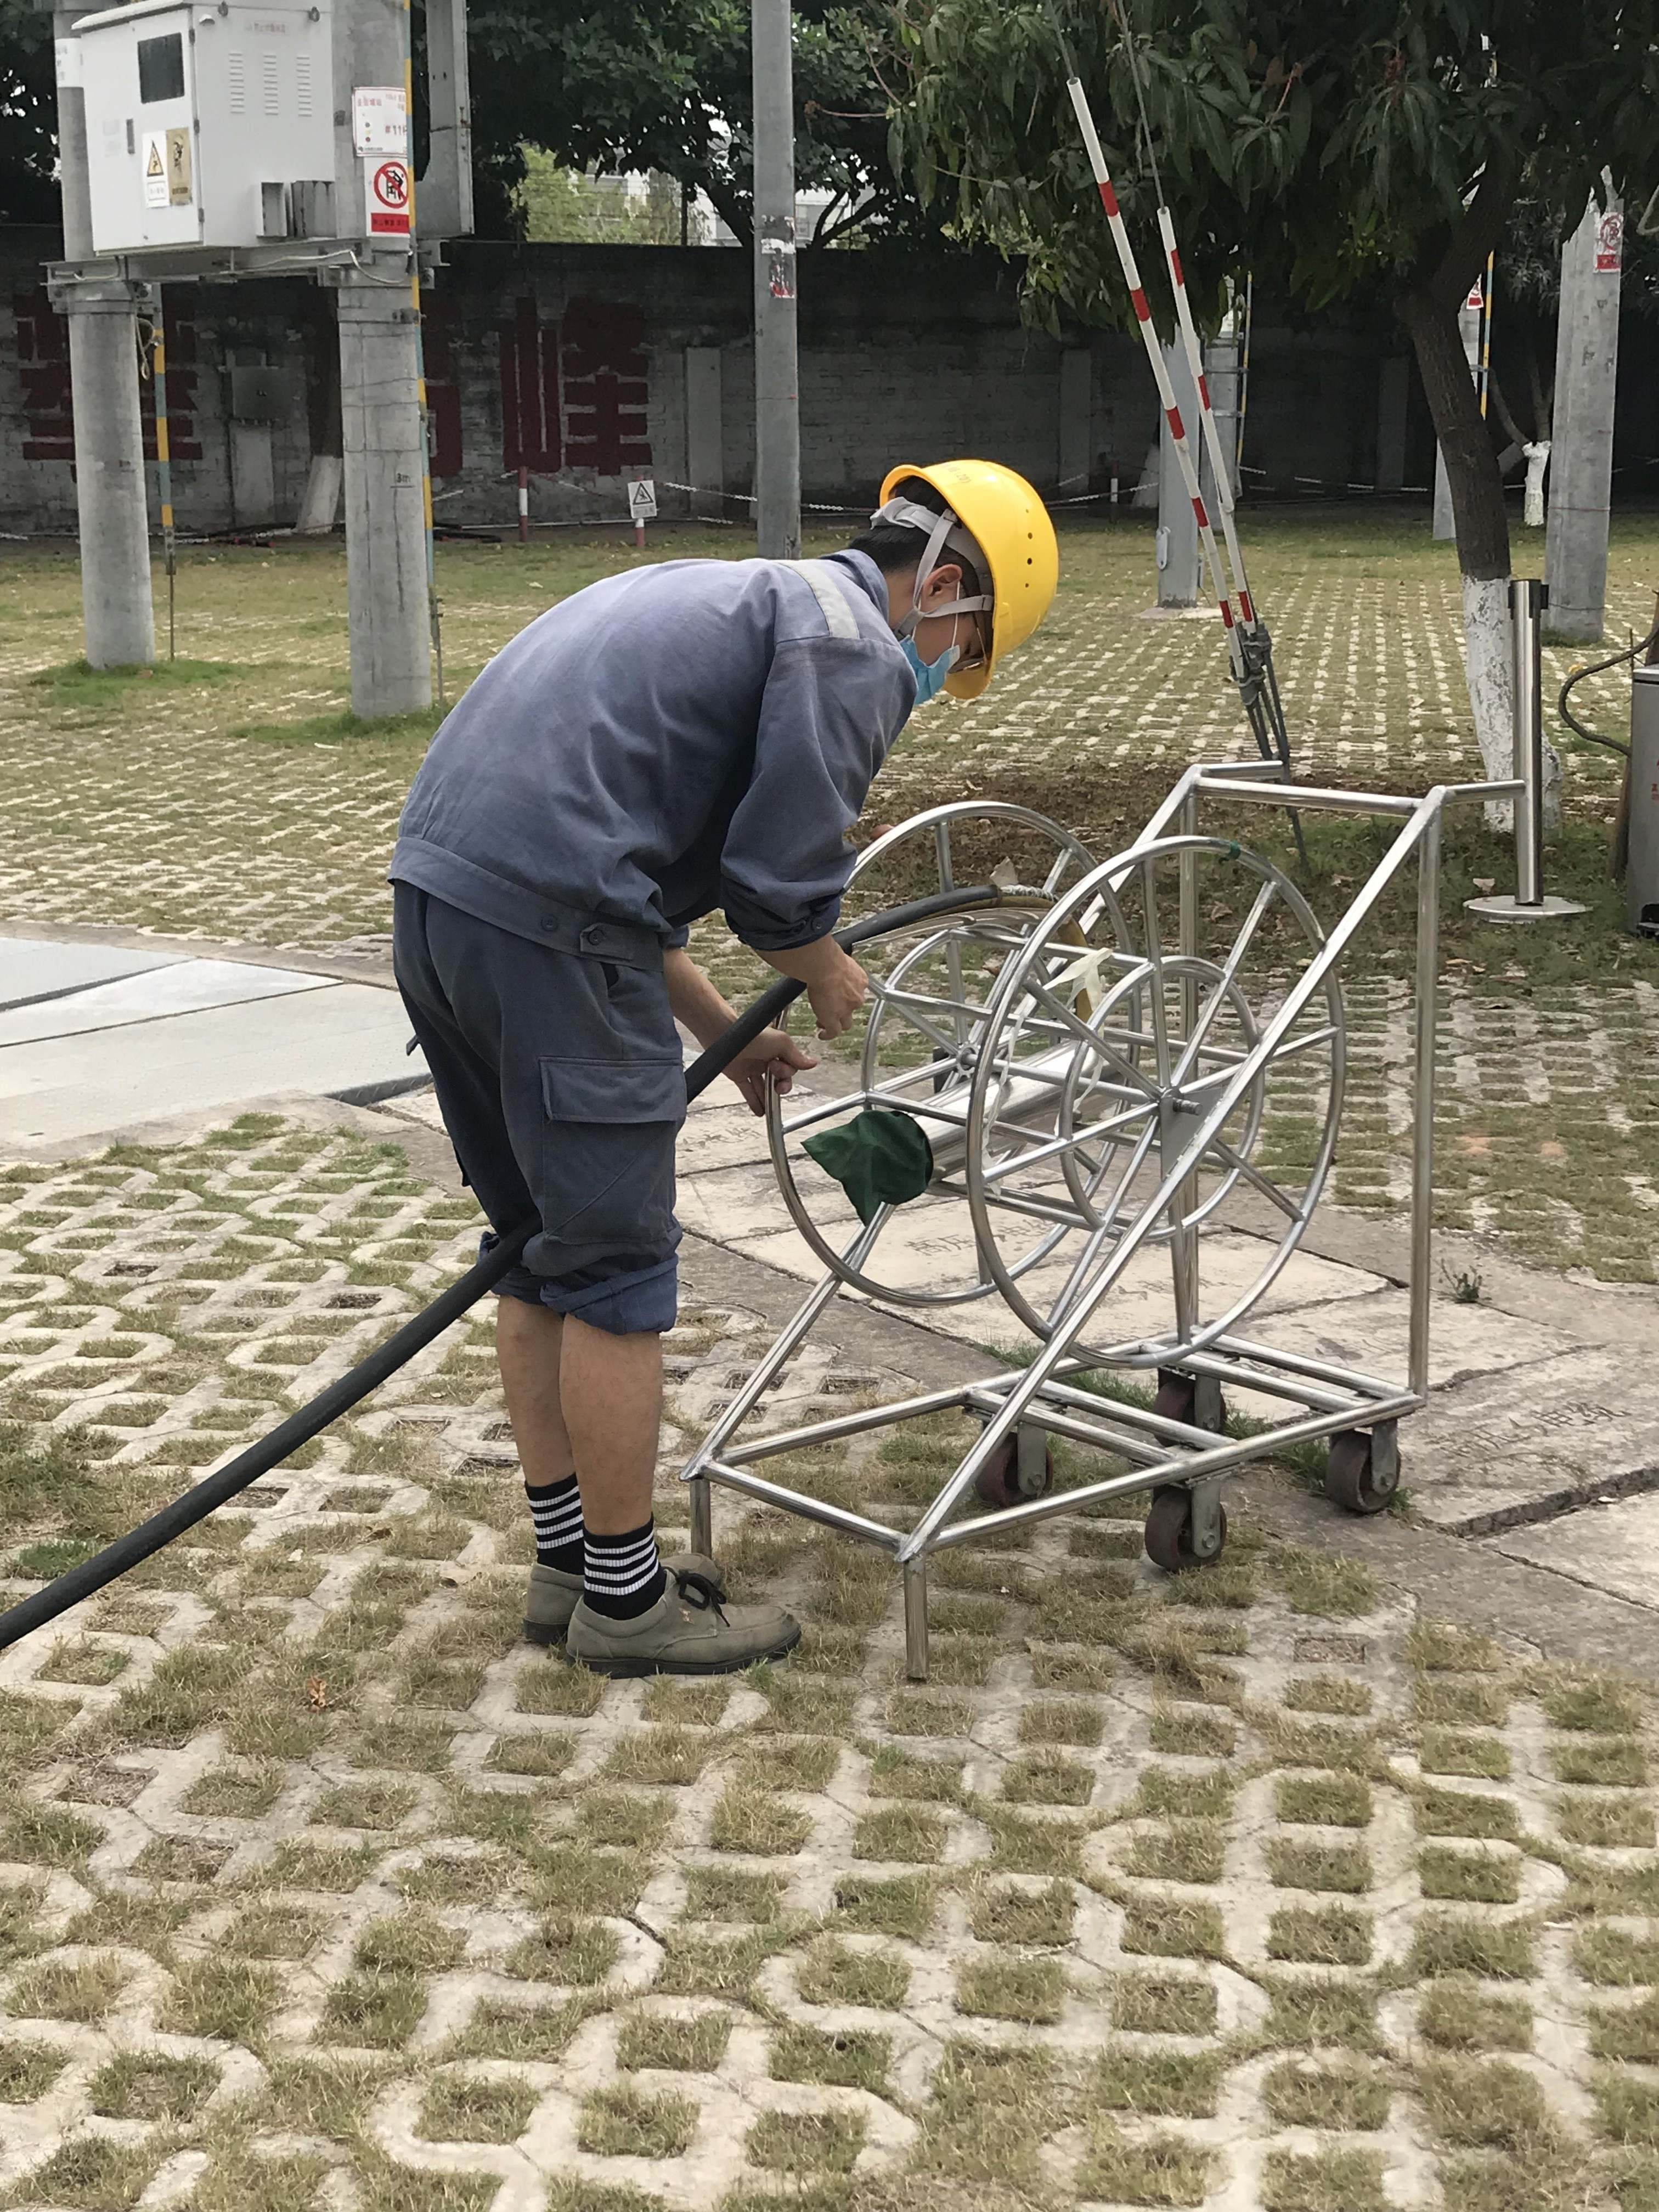downsuit: (396, 909, 669, 1312)
upsuit: (434, 538, 906, 918)
wrongbottom: (471, 1259, 695, 1588)
